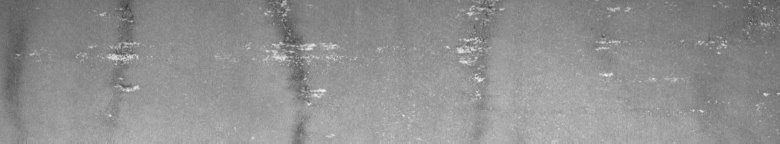hc: (13, 4, 152, 117)
